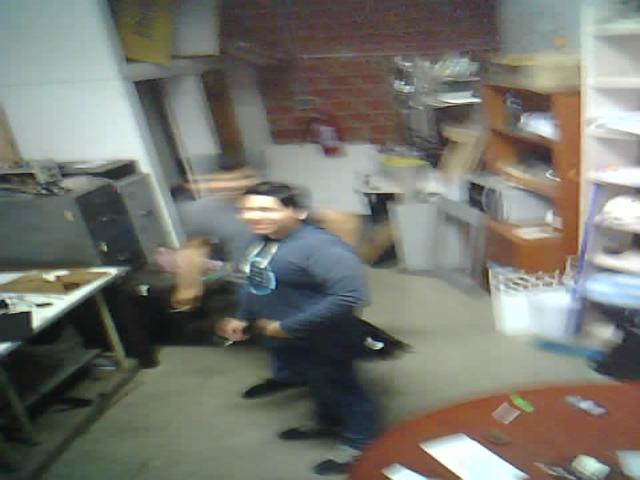person: (207, 170, 405, 480), (149, 189, 306, 407)
